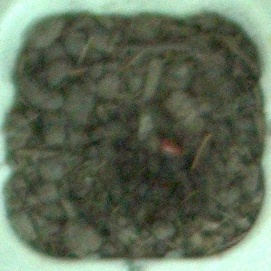pepper seed: (65, 55, 250, 215)
